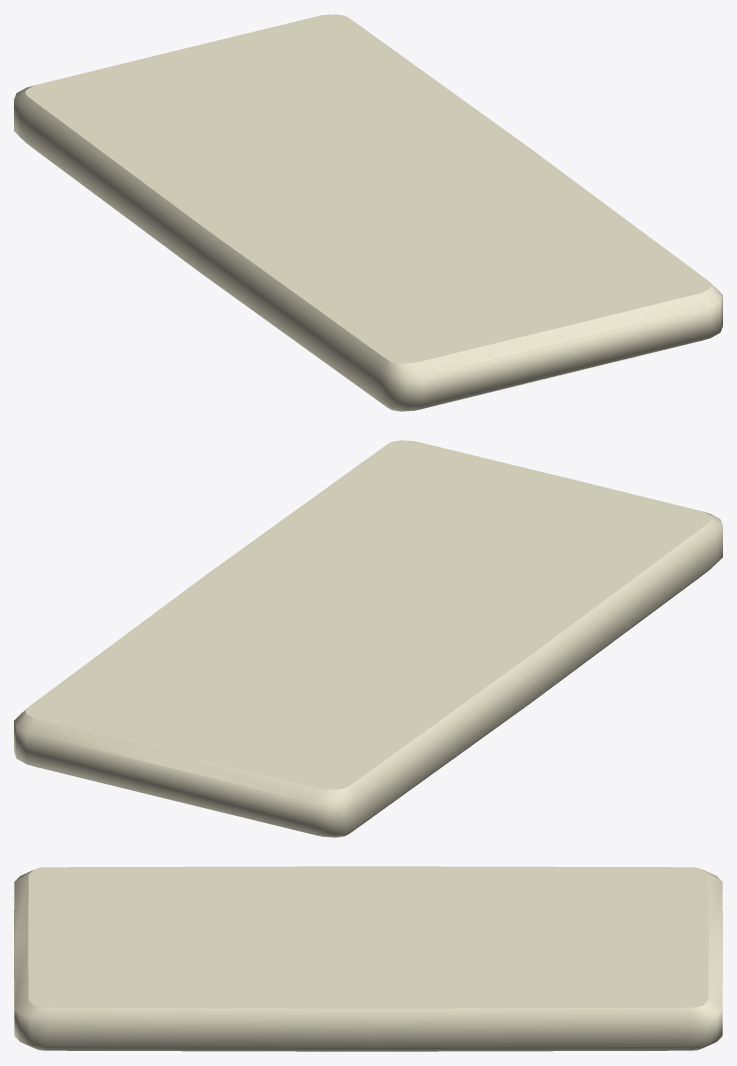
File: Domino_Concealed.glb
The picture shows the model from 3 angles, top to bottom: view 1: azimuth 30°, elevation 25°; view 2: azimuth 150°, elevation 25°; view 3: azimuth 270°, elevation 25°; orthographic projection. The views are drawn at different scales.
Parts seen in each view (by area): view 1: concealed.002; view 2: concealed.002; view 3: concealed.002.
Boxes of the visible parts, left/top/right/bottom form: concealed.002: left=14, top=14, right=722, bottom=411; concealed.002: left=14, top=440, right=722, bottom=837; concealed.002: left=14, top=866, right=722, bottom=1051.
Bounding box in the file's own units: 0.7725 × 0.1042 × 1.56.
